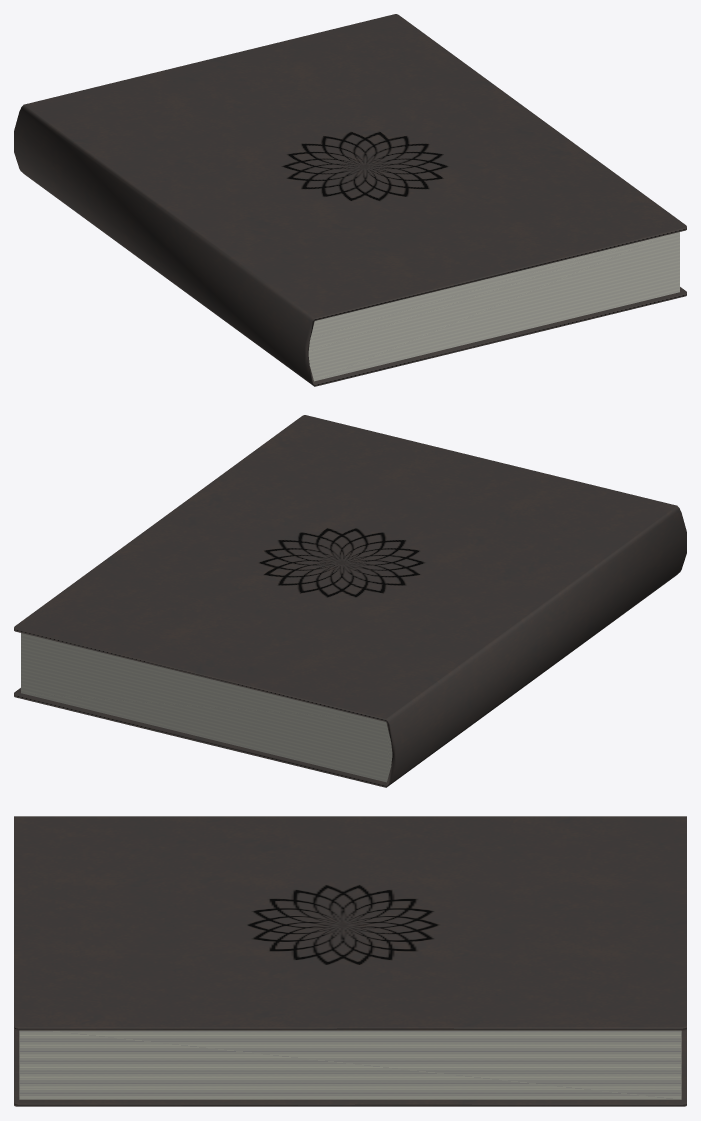
Rendered from book.glb.
3 renders of one model, top to bottom at view 1: azimuth 30°, elevation 25°; view 2: azimuth 150°, elevation 25°; view 3: azimuth 270°, elevation 25°, orthographic. The views are drawn at different scales.
Visible parts, largest first — view 1: Cube_0; view 2: Cube_0; view 3: Cube_0.
Part boxes in pixels (left/top/right/bottom): Cube_0: left=14, top=14, right=686, bottom=386; Cube_0: left=14, top=415, right=686, bottom=787; Cube_0: left=14, top=816, right=686, bottom=1106.
Size of the model in its own units: 2.04 by 0.3512 by 2.68.
Materials: 2 (2 with a texture image).
